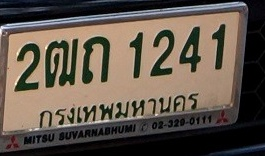num2: (12, 41, 41, 94)
txt13: (43, 37, 78, 90)
txt17: (80, 35, 110, 86)
